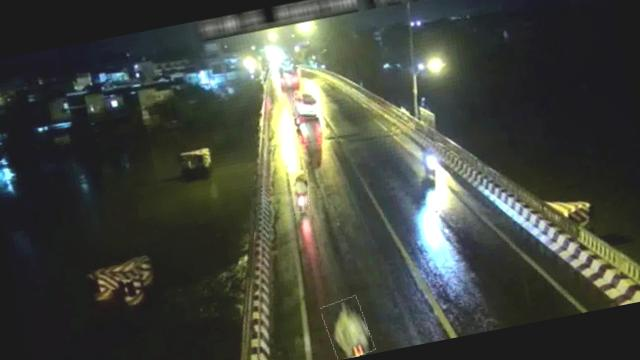Bike: (321, 294, 374, 360), (288, 169, 313, 213)
Car: (291, 90, 322, 121)
